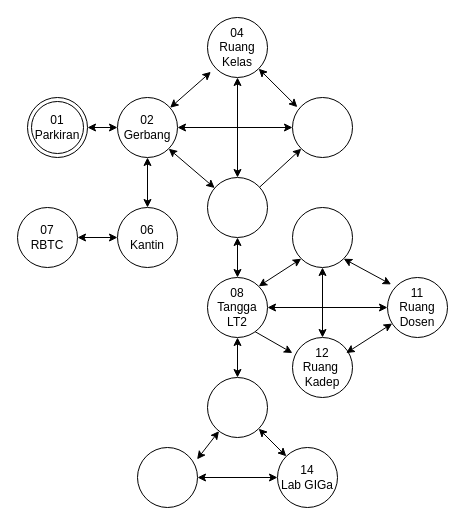
Some shapes in this 465 by 525 pixel diagram are drawn without their labels. Each missing label, with the centre of its shape:
"03 Tangga LT 1" goes at (237,207).
"05 Musholla" goes at (322,127).
"09 Tangga LT3" goes at (237,407).
"10 Tata Usaha" goes at (322,237).
"13 Lab Prog" goes at (167,477).
